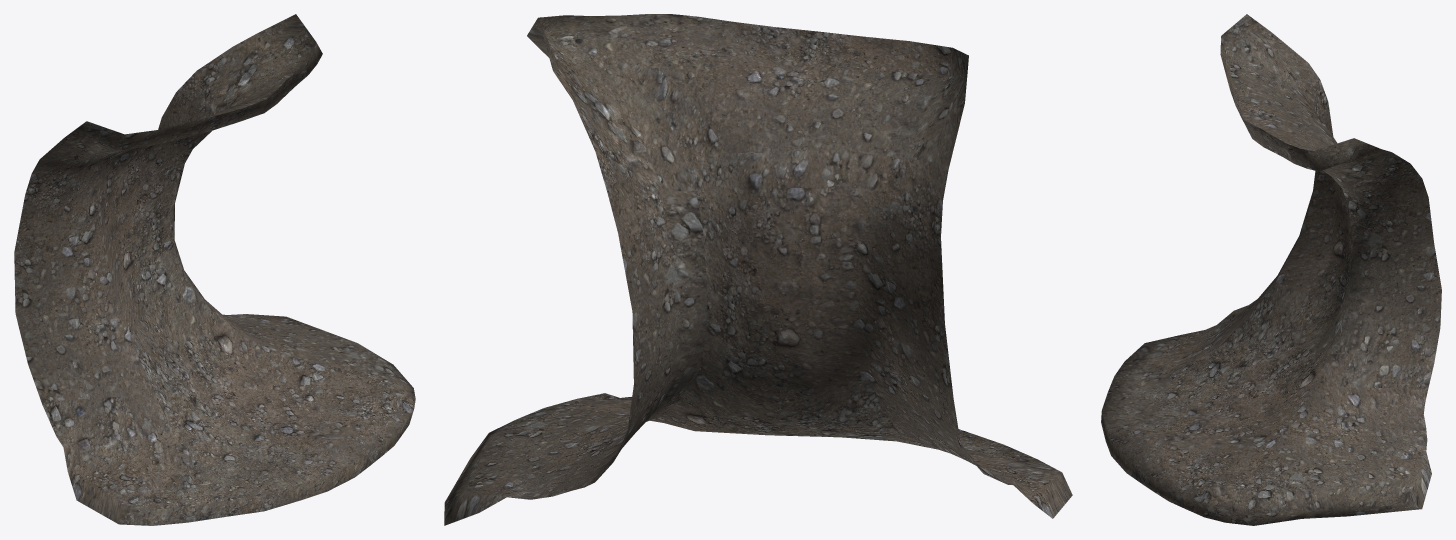
The model's file is cave_modules_corner_convex_2.dae.
3 renders of one model, left to right at view 1: azimuth 30°, elevation 25°; view 2: azimuth 150°, elevation 25°; view 3: azimuth 270°, elevation 25°, orthographic. The views are drawn at different scales.
Parts seen in each view (by area): view 1: corner_convex_02; view 2: corner_convex_02; view 3: corner_convex_02.
Boxes of the visible parts, x1,y1,x2,y2 form: corner_convex_02: (14,14,415,525); corner_convex_02: (444,14,1072,525); corner_convex_02: (1101,14,1441,525).
Size of what is drawn, in the model's own units: 8.15 by 7.78 by 6.64.
